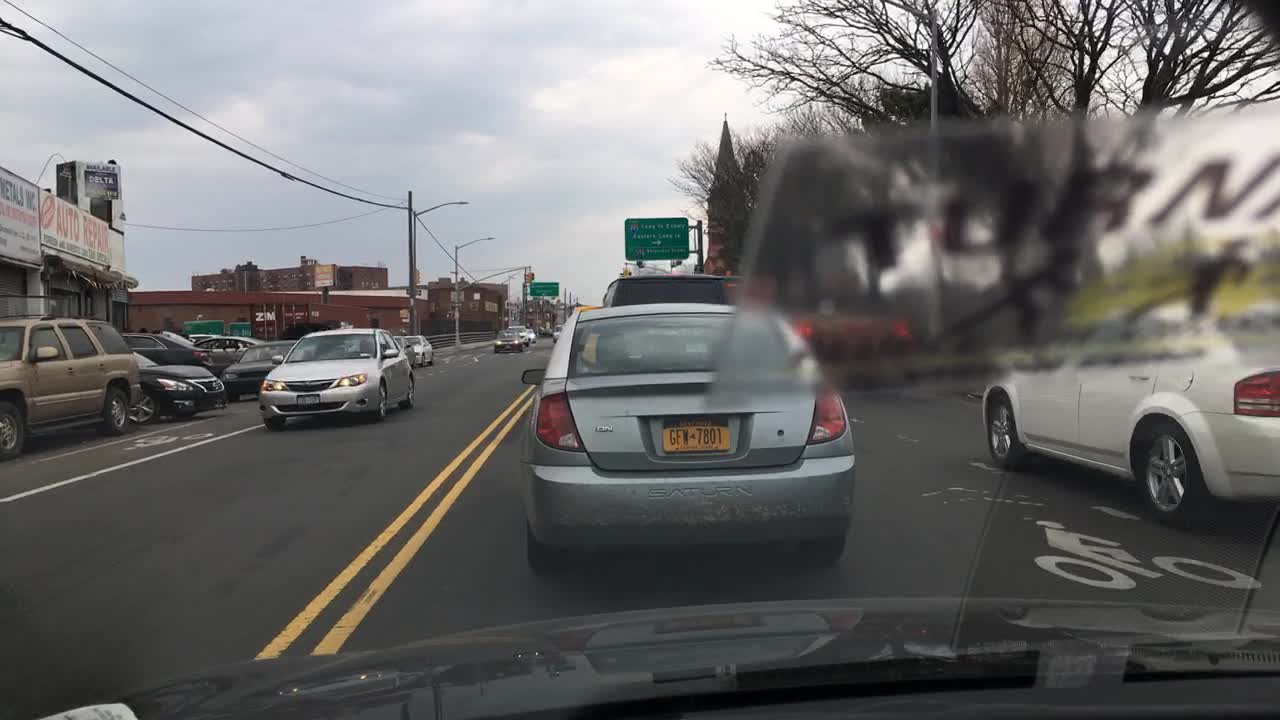car: (517, 293, 857, 573), (979, 297, 1278, 526), (2, 314, 141, 460), (256, 326, 416, 430), (128, 349, 226, 426), (220, 337, 305, 400), (602, 275, 756, 305), (127, 332, 209, 376), (408, 330, 436, 368), (490, 328, 522, 355), (199, 336, 253, 345), (393, 336, 412, 355), (551, 322, 565, 345), (165, 333, 188, 344), (519, 325, 530, 343), (529, 329, 538, 342)
traffic light: (397, 309, 410, 322), (445, 309, 455, 321), (521, 271, 527, 283), (526, 271, 534, 280), (456, 309, 461, 322)
traffic sign: (624, 215, 690, 259), (314, 263, 335, 286), (528, 282, 559, 296), (451, 290, 466, 301), (407, 288, 424, 295)
truck: (248, 302, 369, 336)
